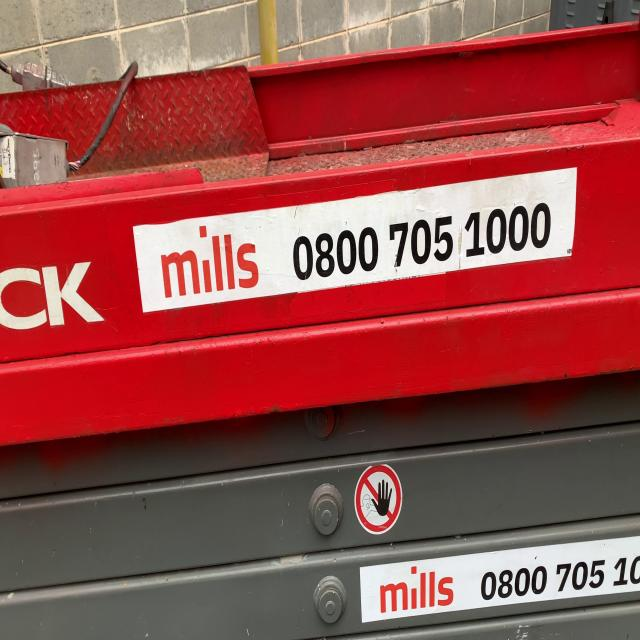Adesivo Longo: (130, 163, 579, 317)
